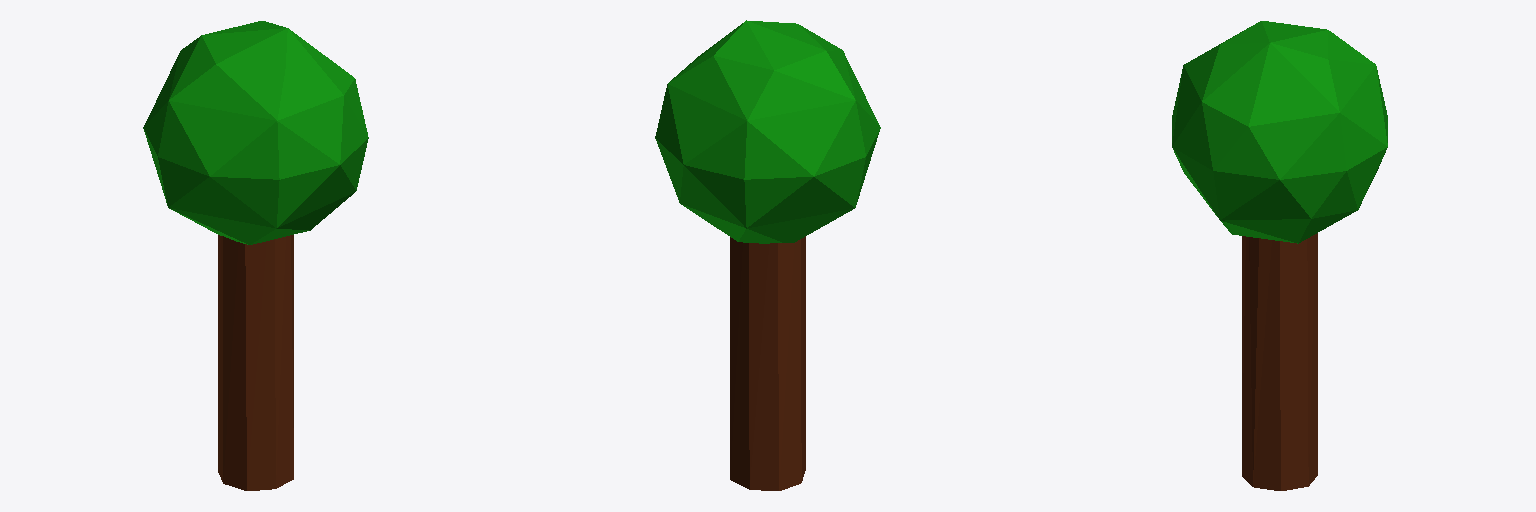
URDF robot description (low_poly_tree_split):
<robot name="low_poly_tree_split">

  <!-- Trunk -->
  <link name="trunk">
    <inertial>
      <origin xyz="0 0 1" rpy="0 0 0"/>  <!-- assume center of trunk mass is 1m up -->
      <mass value="5.0"/>
      <inertia ixx="0.2" iyy="0.2" izz="0.1"
               ixy="0" ixz="0" iyz="0"/>
    </inertial>
    <visual>
      <origin xyz="0 0 0" rpy="0 0 0"/>
      <geometry>
        <mesh filename="tree_trunk.obj" scale="1 1 1"/>
      </geometry>
      <material name="brown">
        <color rgba="0.4 0.2 0.1 1.0"/>
      </material>
    </visual>
    <collision>
      <origin xyz="0 0 0" rpy="0 0 0"/>
      <geometry>
        <mesh filename="tree_trunk.obj" scale="1 1 1"/>
      </geometry>
    </collision>
  </link>

  <!-- Canopy -->
  <link name="canopy">
    <inertial>
      <origin xyz="0 0 1" rpy="0 0 0"/>  <!-- assume center of trunk mass is 1m up -->
      <mass value="5.0"/>
      <inertia ixx="0.2" iyy="0.2" izz="0.1"
               ixy="0" ixz="0" iyz="0"/>
    </inertial>
    <visual>
      <origin xyz="0 0 5.0" rpy="0 0 0"/>
      <geometry>
        <mesh filename="tree_canopy.obj" scale="1 1 1"/>
      </geometry>
      <material name="green">
        <color rgba="0.1 0.6 0.1 0.8"/> <!-- Semi-transparent green -->
      </material>
    </visual>
    <collision>
      <origin xyz="0 0 5.0" rpy="0 0 0"/>
      <geometry>
        <mesh filename="tree_canopy.obj" scale="1 1 1"/>
      </geometry>
    </collision>
  </link>

  <!-- Joint: attach canopy to trunk -->
  <joint name="trunk_to_canopy" type="fixed">
    <parent link="trunk"/>
    <child link="canopy"/>
    <origin xyz="0 0 5.0" rpy="0 0 0"/>
  </joint>

</robot>

--- What the picture shows (computed from the rendered views, not written in the file) ---
Views: 3 orthographic renders of the robot side by side, from view 1: azimuth 30°, elevation 25°; view 2: azimuth 150°, elevation 25°; view 3: azimuth 270°, elevation 25°.
Model low_poly_tree_split with 2 links and 1 joints (1 fixed), rooted at trunk, posed every joint at zero.
Links seen in each view (by area): view 1: canopy, trunk; view 2: canopy, trunk; view 3: canopy, trunk.
Link boxes in pixels (x1,y1,x2,y2): canopy: (143,21,368,244); trunk: (218,235,293,490); canopy: (655,20,880,243); trunk: (730,236,805,490); canopy: (1172,21,1387,243); trunk: (1242,233,1317,490).
Bounding box of the posed robot: 6 × 5.71 × 12.98 m (x, y, z).
Meshes: 2 distinct files referenced, 2 mesh visuals loaded (2 OBJ).